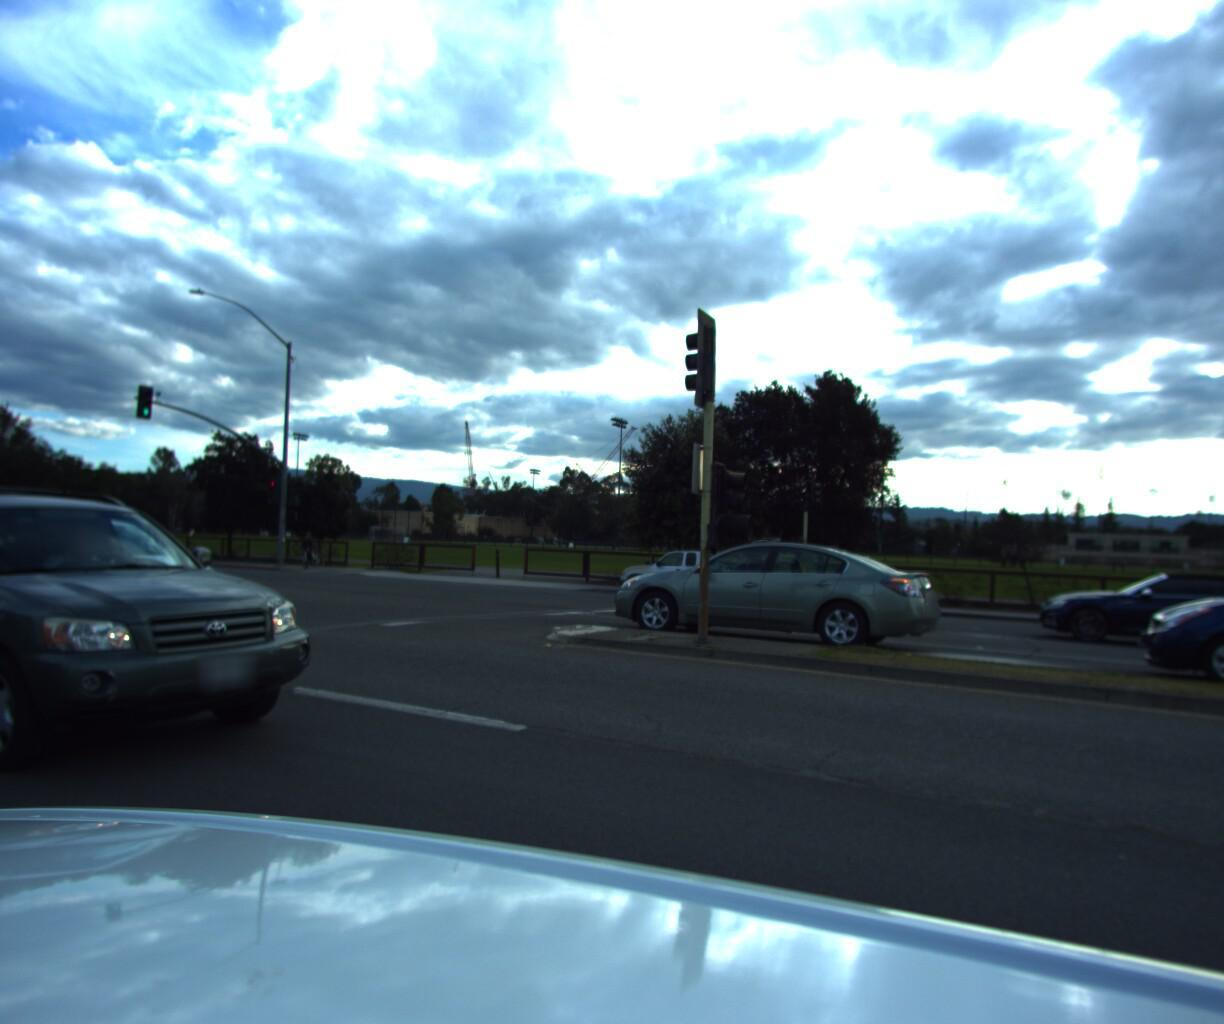bicycle: (284, 525, 329, 564)
car: (0, 477, 348, 820), (586, 526, 947, 661), (1039, 559, 1224, 662), (1129, 542, 1224, 726), (609, 540, 779, 599)
